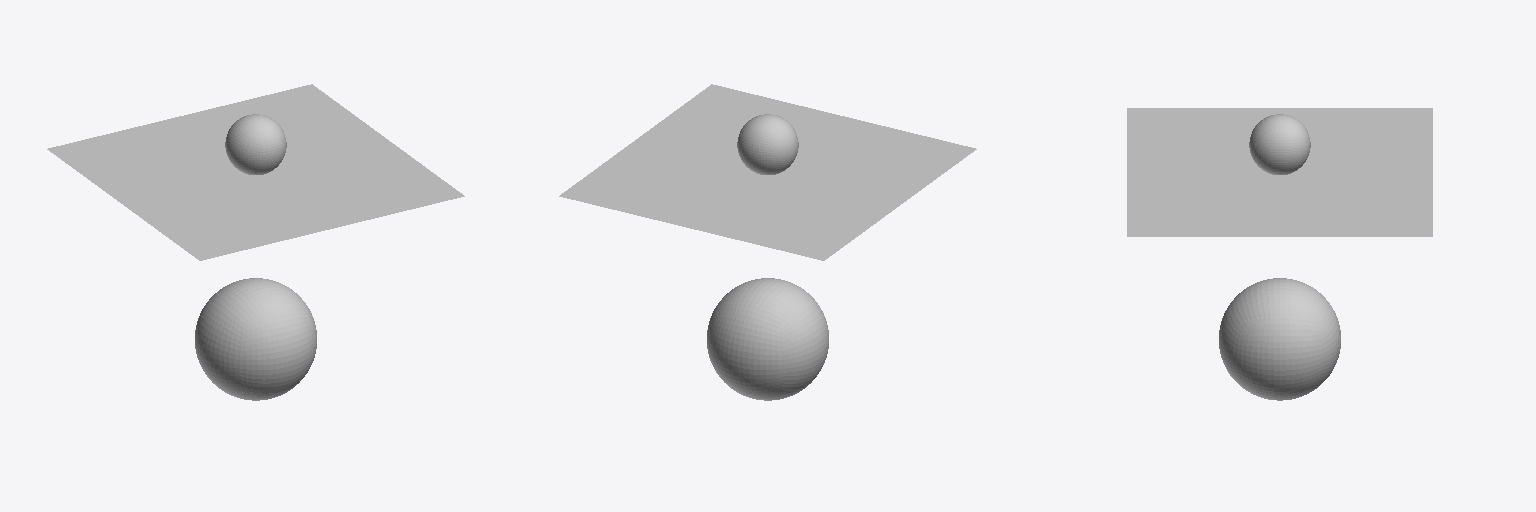
The model's file is empty.obj.
3 views of the same model, side by side, from view 1: azimuth 30°, elevation 25°; view 2: azimuth 150°, elevation 25°; view 3: azimuth 270°, elevation 25° (orthographic).
Parts seen in each view (by area): view 1: Plane_Plane.001, 世界球_Cube.002, Cube_Cube.001; view 2: Plane_Plane.001, 世界球_Cube.002, Cube_Cube.001; view 3: Plane_Plane.001, 世界球_Cube.002, Cube_Cube.001.
Part boxes in pixels (bbox=[...]): Plane_Plane.001: bbox=[47, 84, 464, 260]; 世界球_Cube.002: bbox=[195, 278, 316, 400]; Cube_Cube.001: bbox=[225, 114, 286, 174]; Plane_Plane.001: bbox=[559, 84, 976, 260]; 世界球_Cube.002: bbox=[707, 278, 828, 400]; Cube_Cube.001: bbox=[737, 114, 798, 174]; Plane_Plane.001: bbox=[1127, 108, 1432, 236]; 世界球_Cube.002: bbox=[1219, 278, 1340, 400]; Cube_Cube.001: bbox=[1249, 114, 1310, 174].
Size of the model in its own units: 5 by 5 by 5.